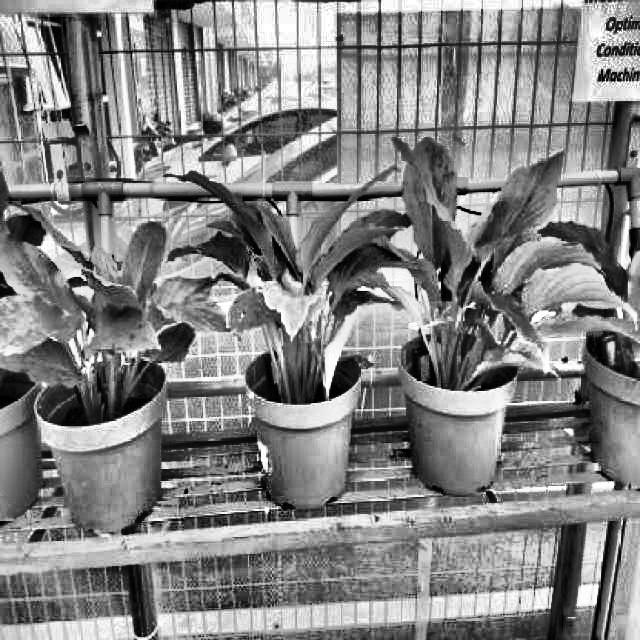plants: (386, 125, 617, 398), (161, 168, 405, 400), (0, 171, 212, 426)
